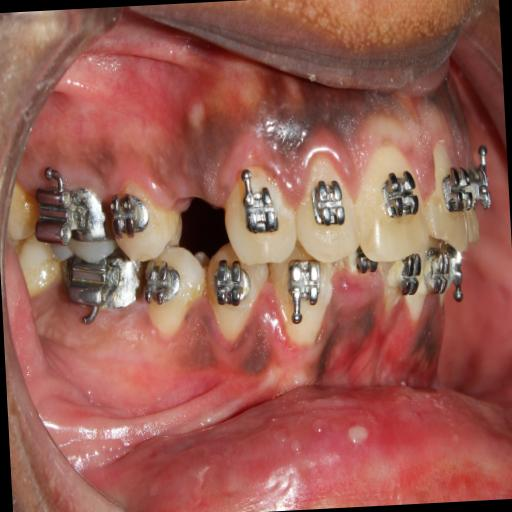correct_brace: (107, 168, 184, 266), (241, 174, 280, 240), (380, 168, 420, 226), (311, 174, 350, 230)
incorrect_brace: (292, 154, 359, 264), (109, 189, 149, 242)
